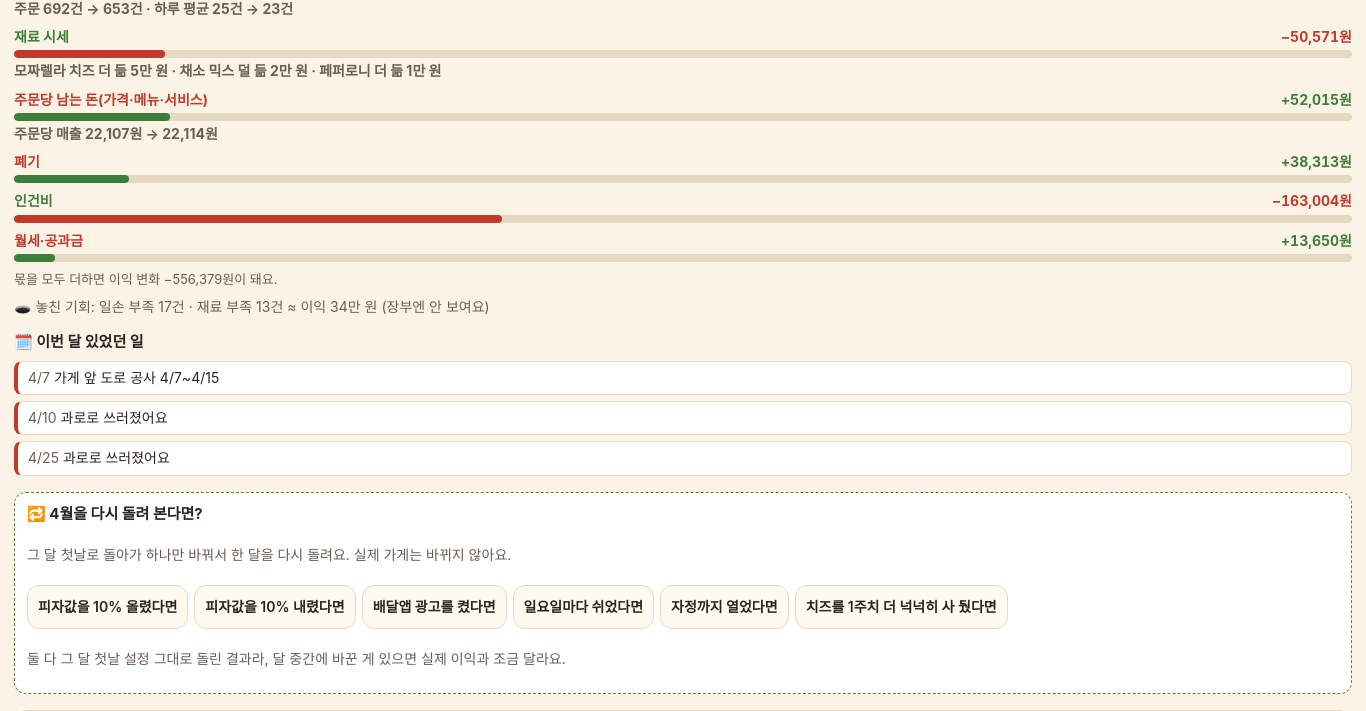
Test: 부검 리포트에서 지난달을 하나만 바꿔 다시 돌려 볼 수 있다
(page scrolled)
Click the button "피자값을 10% 올렸다면". click: click(108, 607)
box: [27,585,188,629]
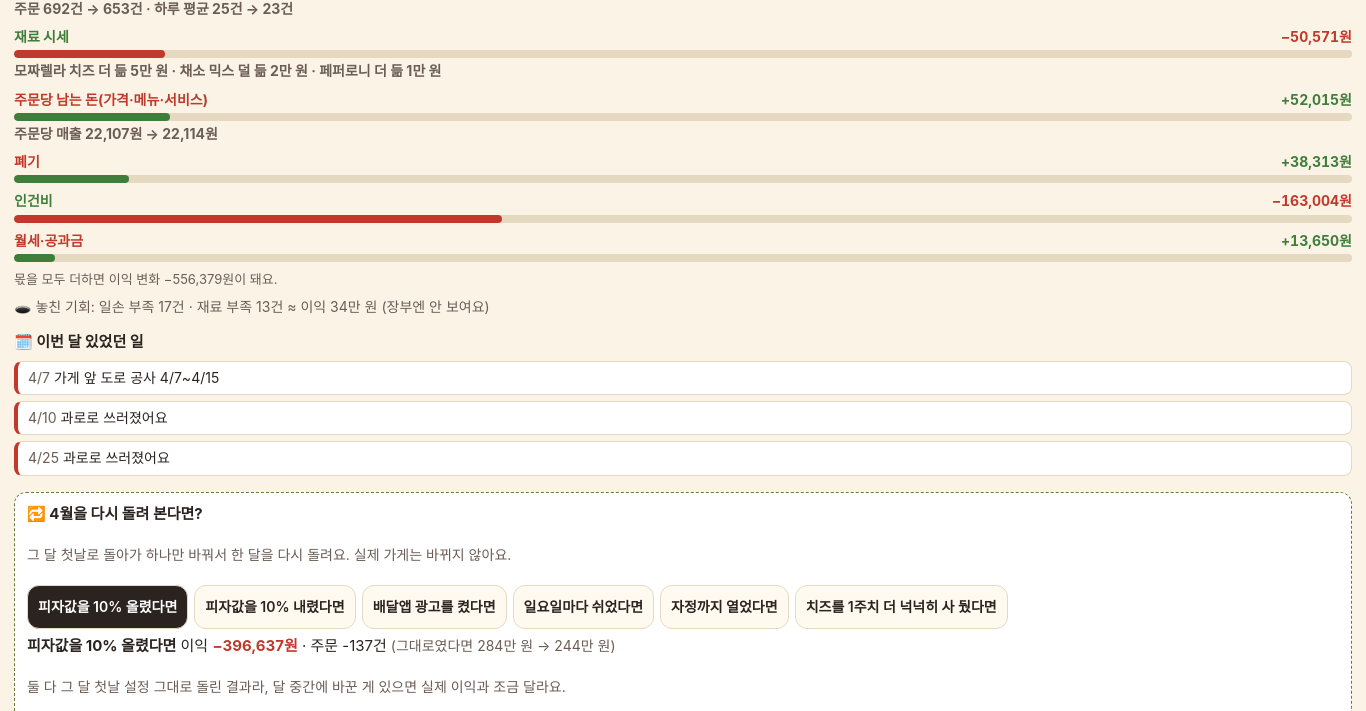
Now the message reads "피자값을 10% 올렸다면 이익 −396,637원 · 주문 -137건 (그대로였다면 284만 원 → 244만 원)", box [27,636,616,655]
